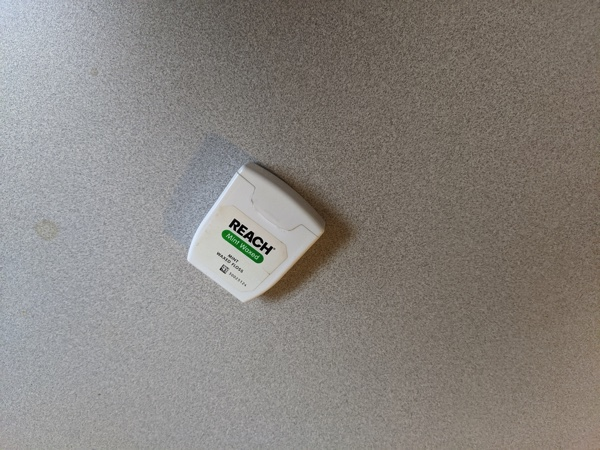plastic: (175, 153, 358, 314)
